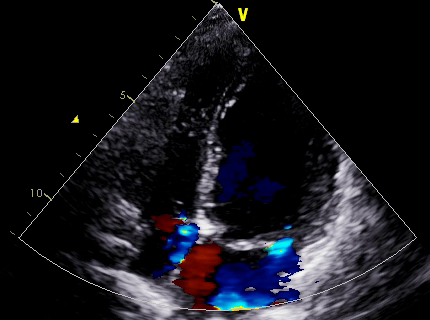MR: (221, 225, 304, 257)
